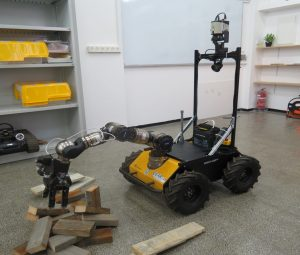husky: (34, 11, 261, 216)
